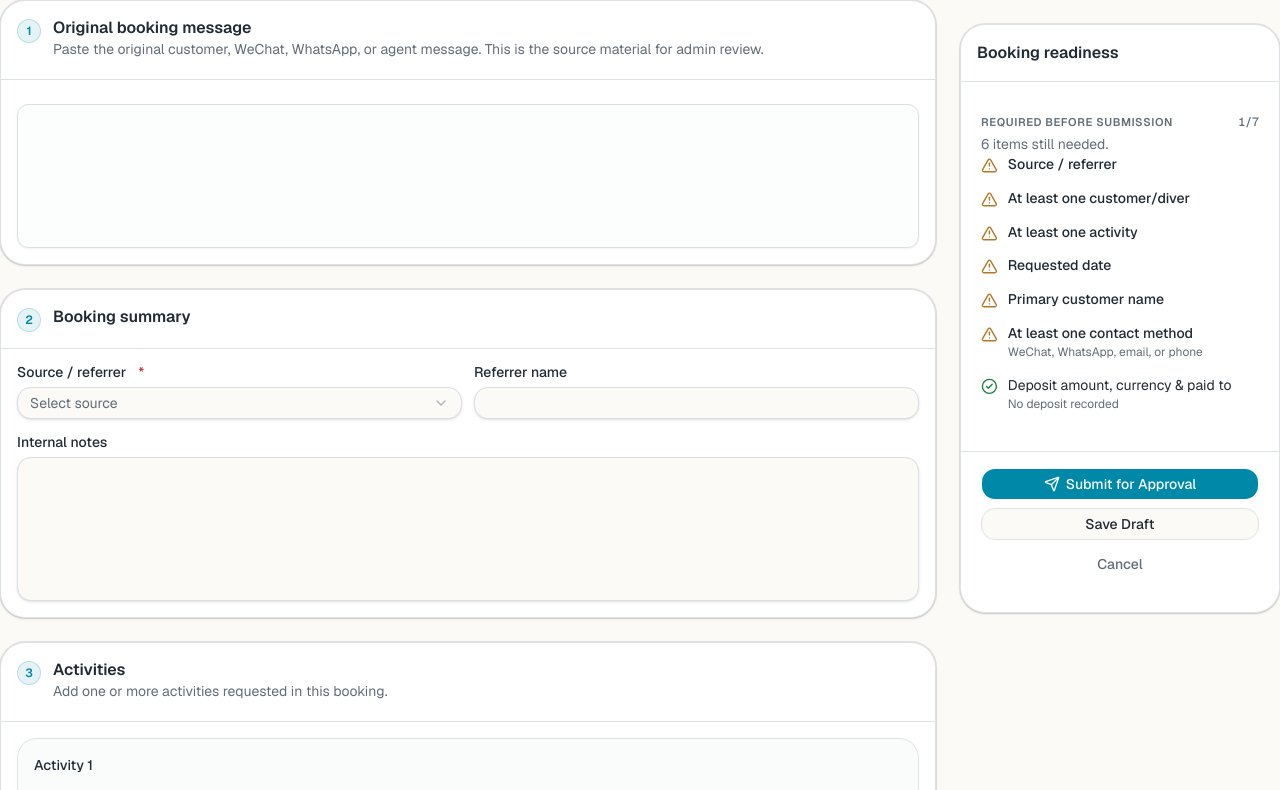
locks competing create actions while Submit for Approval validates
Click the button "Submit for Approval" at (1120, 484), box [981,468,1259,500]
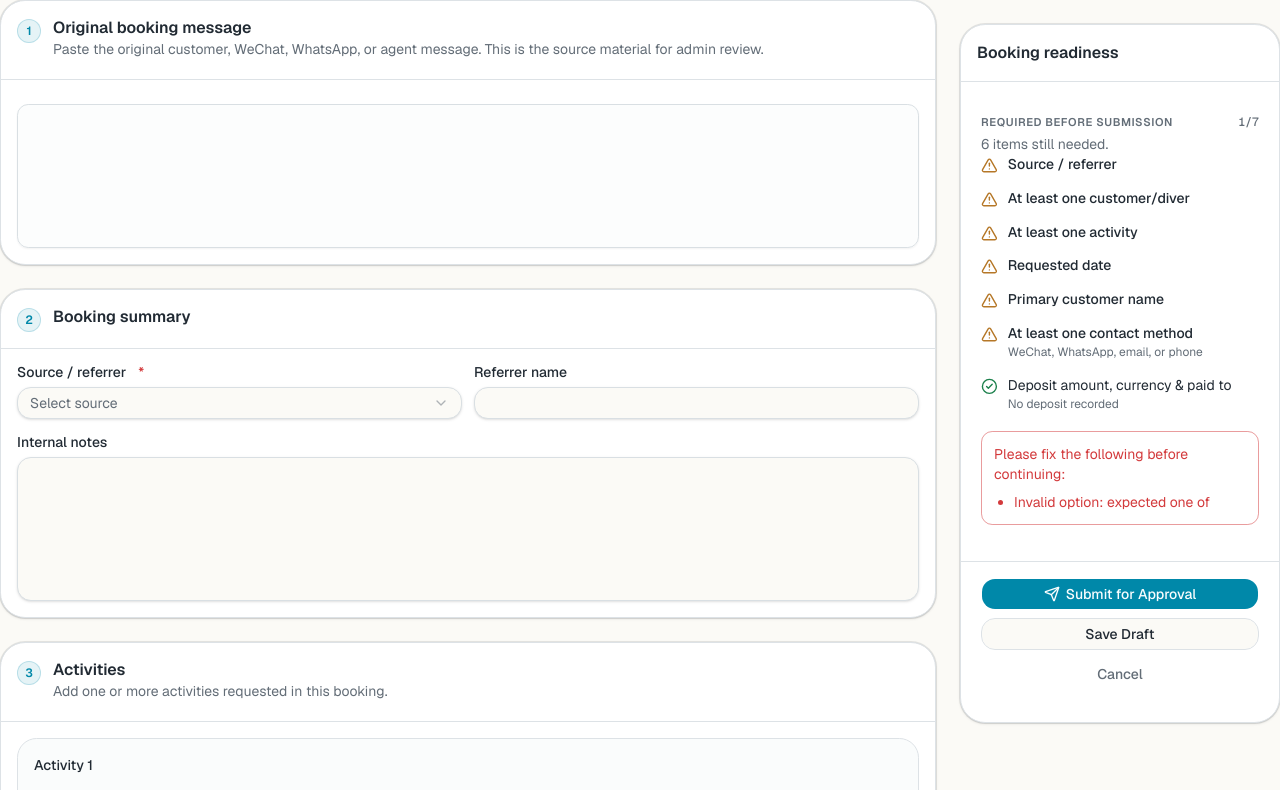
Expected: the button "Submit for Approval" is enabled, [981,578,1259,610]
Result: the message "Please fix the following before continuing: Invalid option: expected one of" is shown at [981,431,1259,525]
